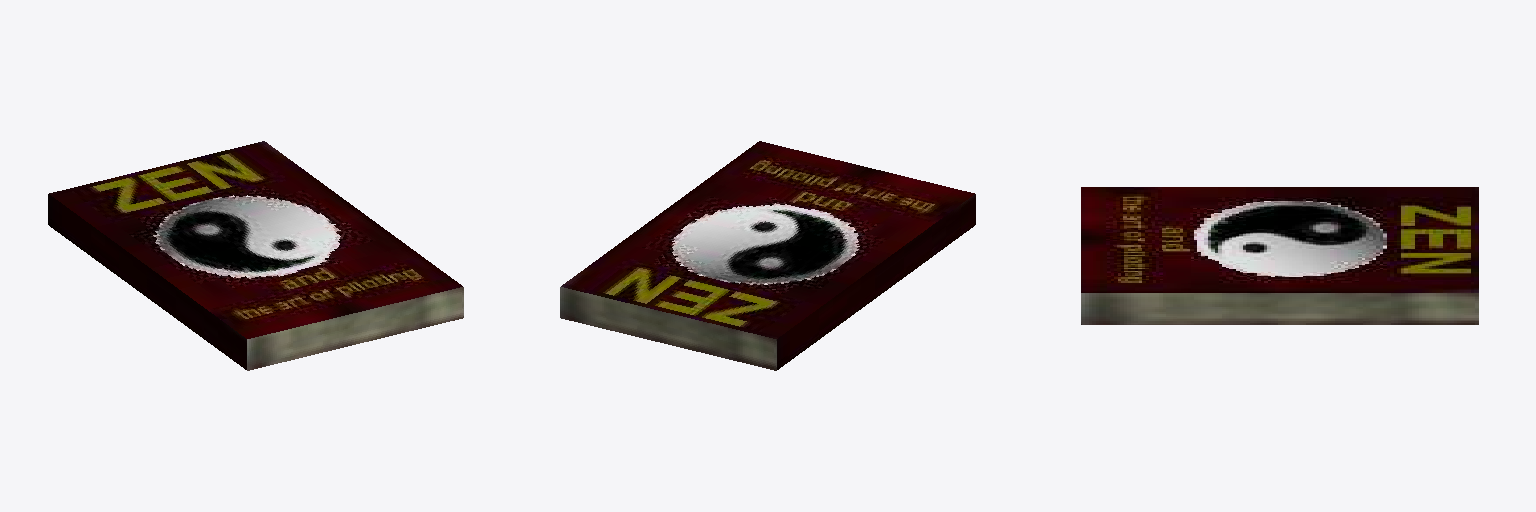
3 renders of one model, left to right at view 1: azimuth 30°, elevation 25°; view 2: azimuth 150°, elevation 25°; view 3: azimuth 270°, elevation 25°, orthographic.
Parts seen in each view (by area): view 1: Box01; view 2: Box01; view 3: Box01.
Boxes of the visible parts, <box> form: Box01: <box>48,141,463,370</box>; Box01: <box>560,141,975,370</box>; Box01: <box>1081,187,1478,324</box>.
Size of the model in its own units: 44.3 by 6.21 by 70.66.
1 materials, 1 textured.